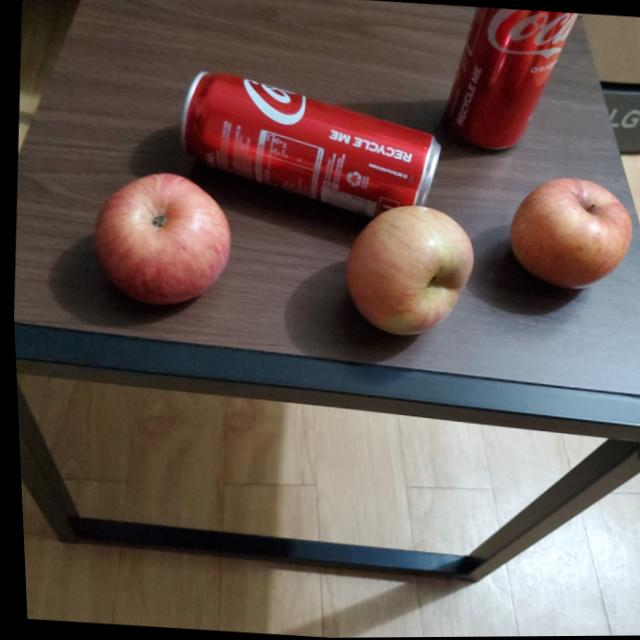apple: (89, 169, 239, 311), (339, 201, 478, 341), (504, 173, 636, 291)
coke: (168, 65, 444, 216), (433, 5, 590, 151)
